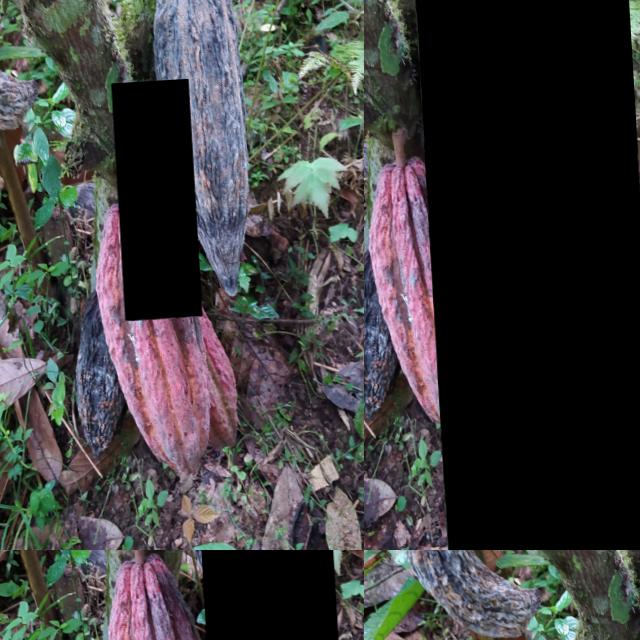Fitoftora: (413, 0, 640, 550), (369, 550, 541, 640)
Sana: (110, 84, 197, 325), (187, 550, 335, 640)
